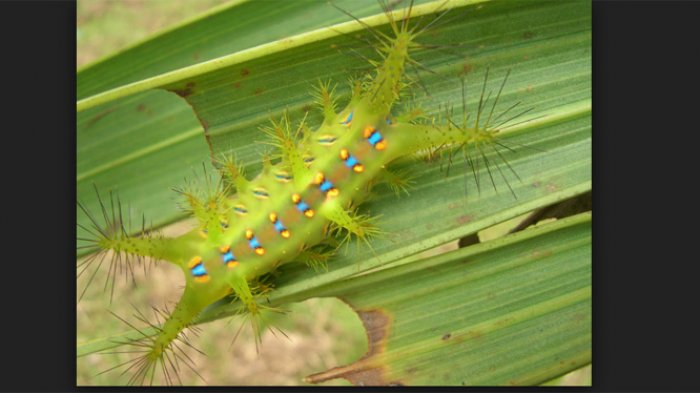Pest! (nettle_caterpillar): (83, 10, 523, 374)
